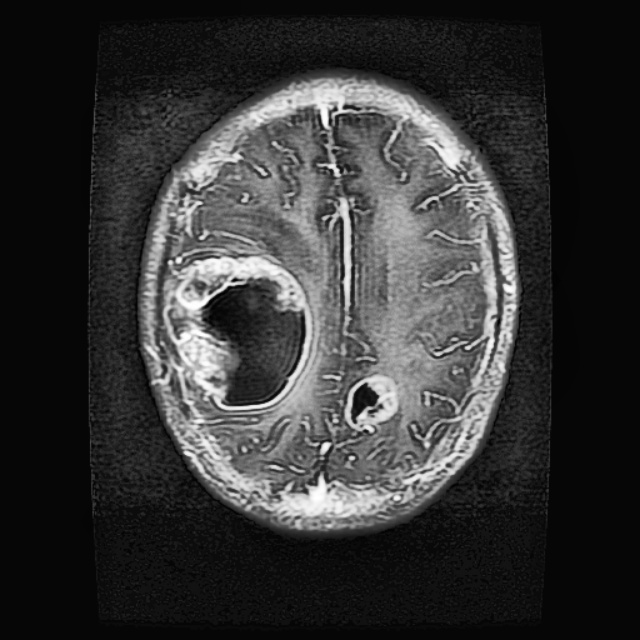Meningioma: (185, 264, 303, 403)
